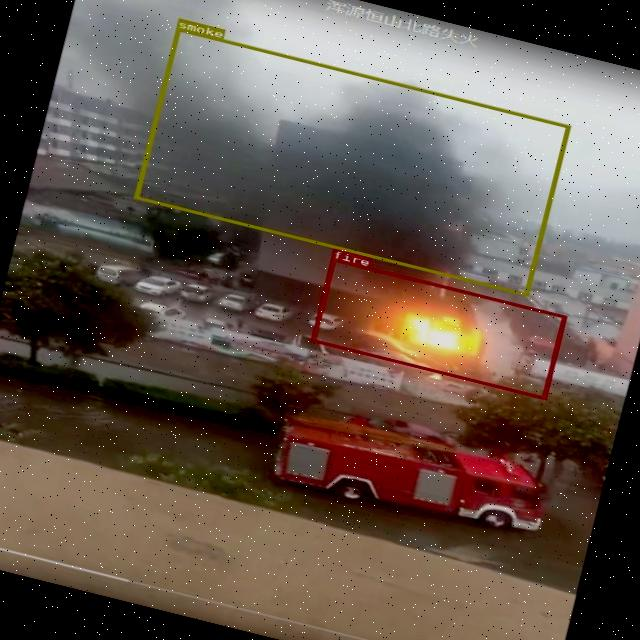fire: (309, 256, 566, 398)
smoke: (132, 27, 570, 296)
